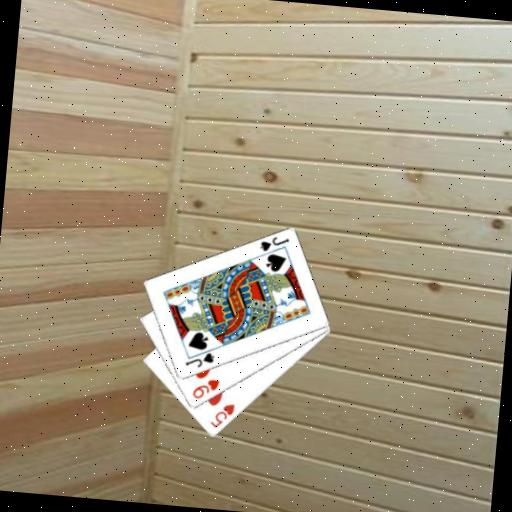5H: (207, 399, 237, 431)
9H: (189, 375, 222, 403)
JS: (183, 348, 217, 371), (257, 233, 291, 256)
